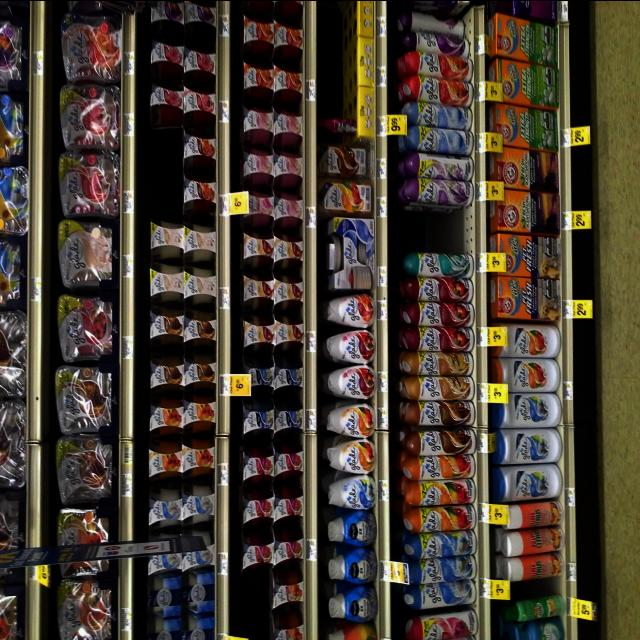empty_space: (399, 213, 467, 247)
